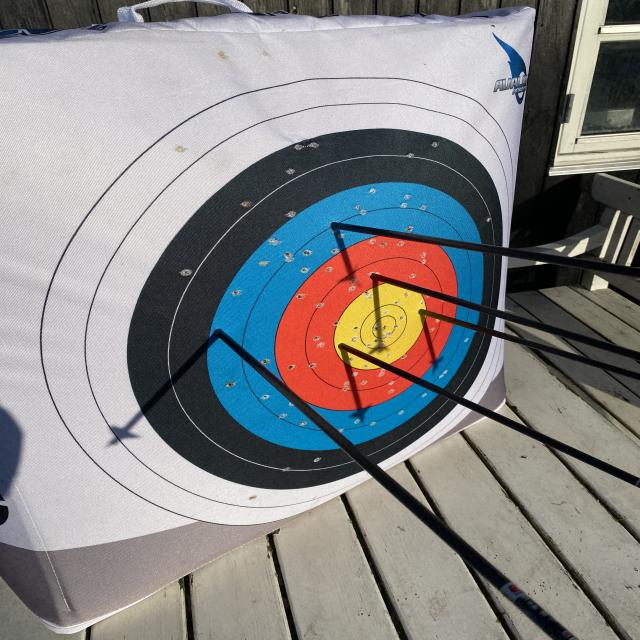Arrow_Blue: (200, 319, 240, 346), (321, 212, 350, 240)
Arrow_Red: (361, 262, 390, 290)
Arrow_Yellow: (327, 333, 363, 359), (416, 301, 437, 325)
